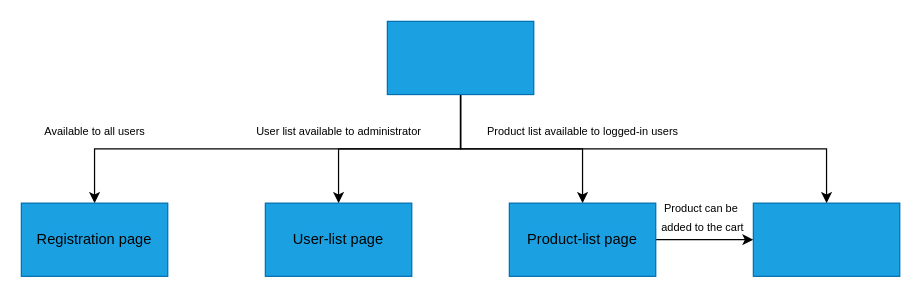
Image size: 921x298. Some labels were removed from this diagram. The shapes that lost their labels are listed below. From the top down, each one's centre as x and y in pixels, then its label:
At point (460, 57): "Front page".
At point (826, 239): "Shopping-cart page".
